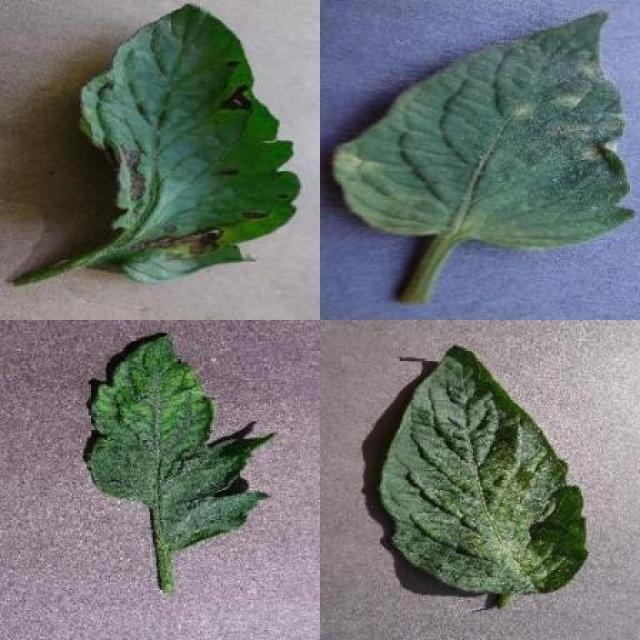Early Blight: (76, 3, 303, 286)
Leaf Mold: (334, 10, 636, 253)
Mosaic Virus: (84, 335, 280, 549)
Spider Mites: (378, 343, 588, 594)
